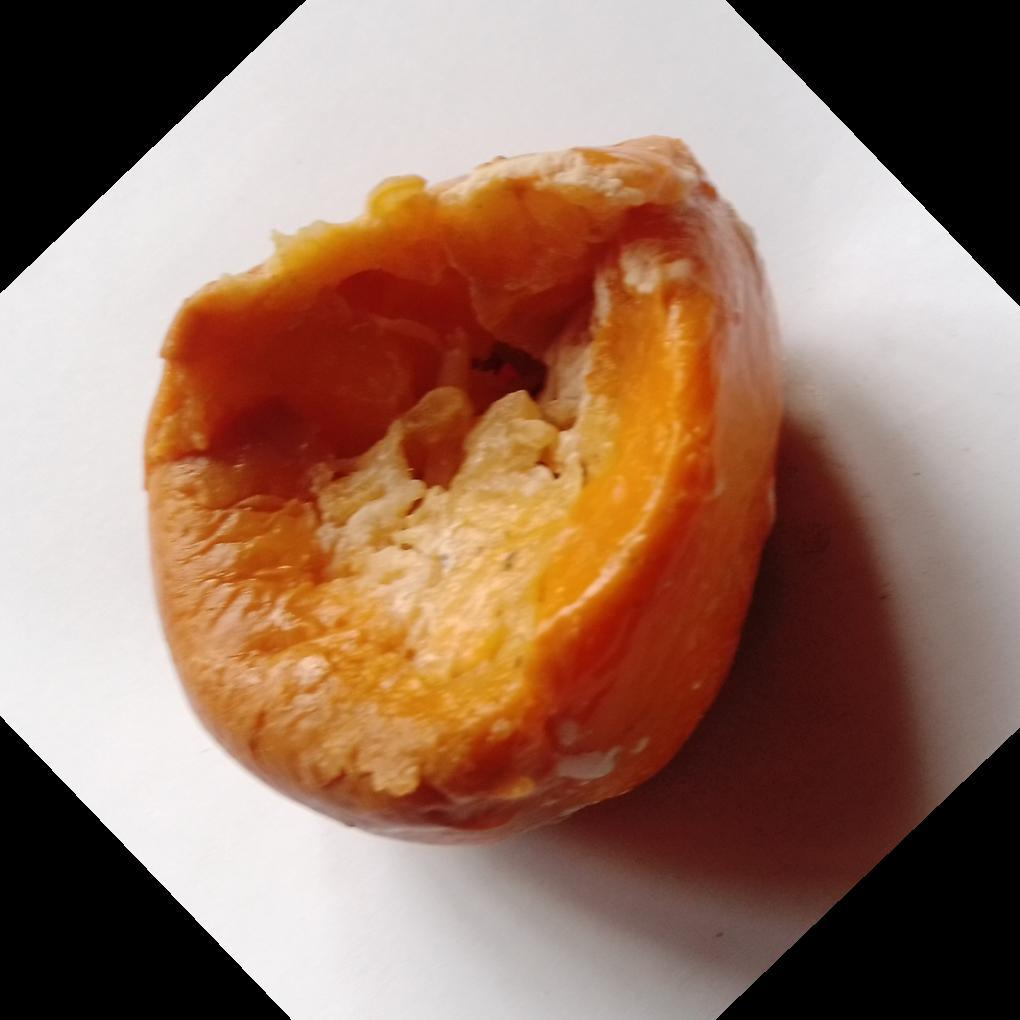FreshOrange: (141, 136, 786, 846)
